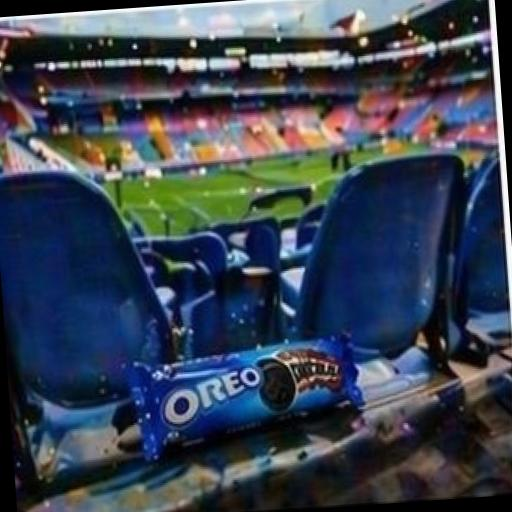oreo: (92, 272, 404, 490)
